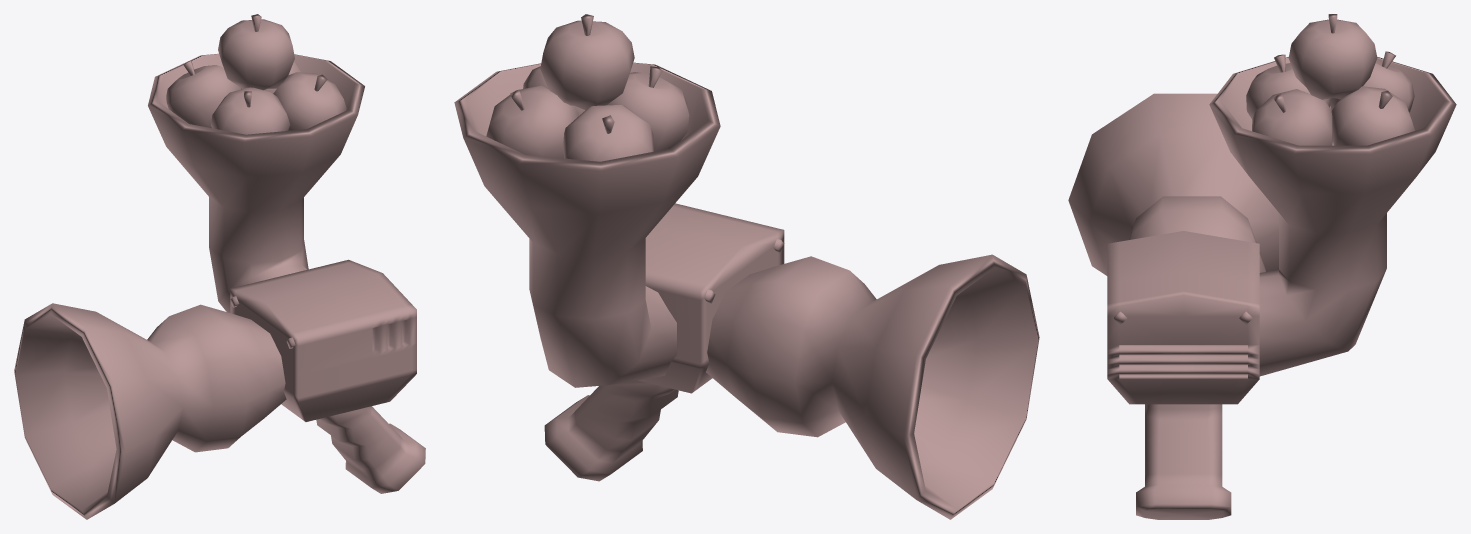
The model's file is Pistola manzana.fbx.
3 views of the same model, side by side, from view 1: azimuth 30°, elevation 25°; view 2: azimuth 150°, elevation 25°; view 3: azimuth 270°, elevation 25° (orthographic). The views are drawn at different scales.
Visible parts, largest first — view 1: pPipe2, pPipe1, pCube1, pCube6, Manzana6, Manzana2, Manzana5, Manzana4; view 2: pPipe2, pPipe1, pCube1, pCube6, Manzana6, Manzana3, Manzana2, Manzana4; view 3: pPipe1, pCube1, pPipe2, pCube6, Manzana6, Manzana3, Manzana5, Manzana4, Manzana2.
Part boxes in pixels (<box>): pPipe2: <box>14,303,286,519</box>; pPipe1: <box>148,53,364,312</box>; pCube1: <box>230,259,416,421</box>; pCube6: <box>316,406,425,493</box>; Manzana6: <box>218,14,294,90</box>; Manzana2: <box>166,60,240,128</box>; Manzana5: <box>273,72,346,130</box>; Manzana4: <box>210,87,290,134</box>; pPipe2: <box>706,254,1039,519</box>; pPipe1: <box>454,62,720,387</box>; pCube1: <box>638,203,784,393</box>; pCube6: <box>544,380,678,481</box>; Manzana6: <box>540,14,634,109</box>; Manzana3: <box>486,85,578,158</box>; Manzana2: <box>563,105,653,161</box>; Manzana4: <box>607,66,689,151</box>; pPipe1: <box>1209,56,1456,376</box>; pCube1: <box>1107,231,1259,404</box>; pPipe2: <box>1068,93,1278,275</box>; pCube6: <box>1136,404,1231,519</box>; Manzana6: <box>1288,14,1377,99</box>; Manzana3: <box>1331,86,1414,145</box>; Manzana5: <box>1252,89,1332,145</box>; Manzana4: <box>1246,54,1330,119</box>; Manzana2: <box>1330,51,1414,112</box>.
Size of the model in its own units: 9.25 by 11 by 8.09.
